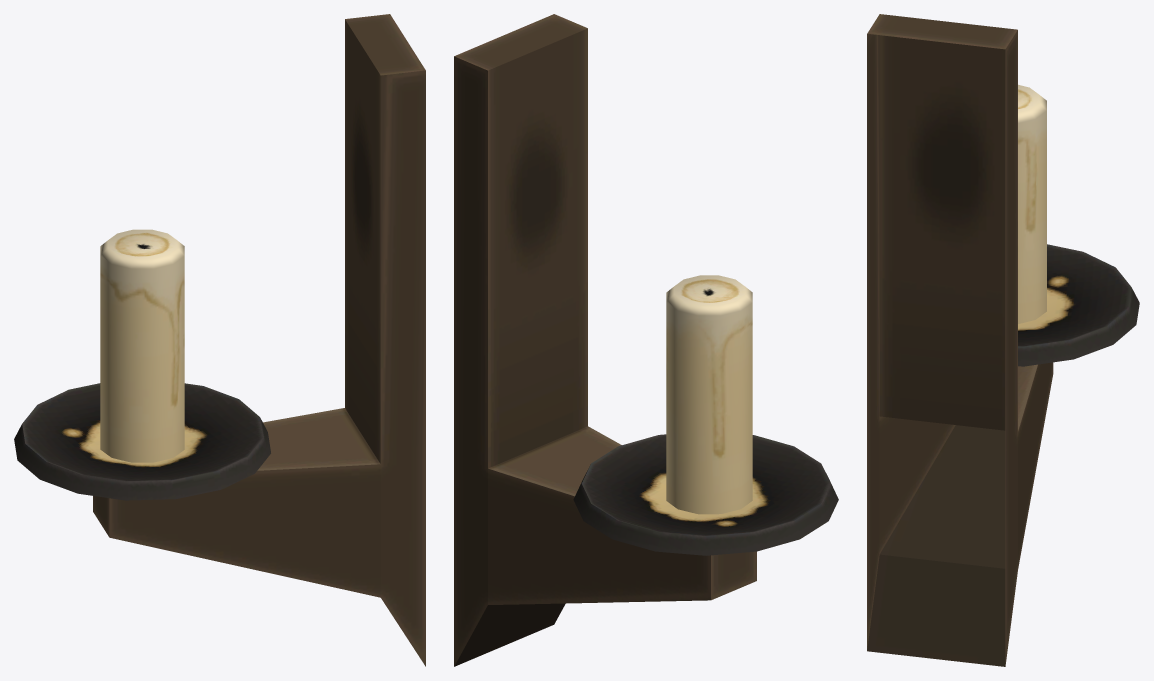
The model's file is Magic_Candle.fbx.
3 views of the same model, side by side, from view 1: azimuth 30°, elevation 25°; view 2: azimuth 150°, elevation 25°; view 3: azimuth 270°, elevation 25° (orthographic). The views are drawn at different scales.
Parts seen in each view (by area): view 1: Magic_Candle; view 2: Magic_Candle; view 3: Magic_Candle.
Boxes of the visible parts, left/top/right/bottom form: Magic_Candle: left=14, top=14, right=425, bottom=666; Magic_Candle: left=454, top=14, right=838, bottom=666; Magic_Candle: left=867, top=14, right=1139, bottom=666.
Size of the model in its own units: 0.5732 by 0.9123 by 0.3651.
1 material, 1 textured.
